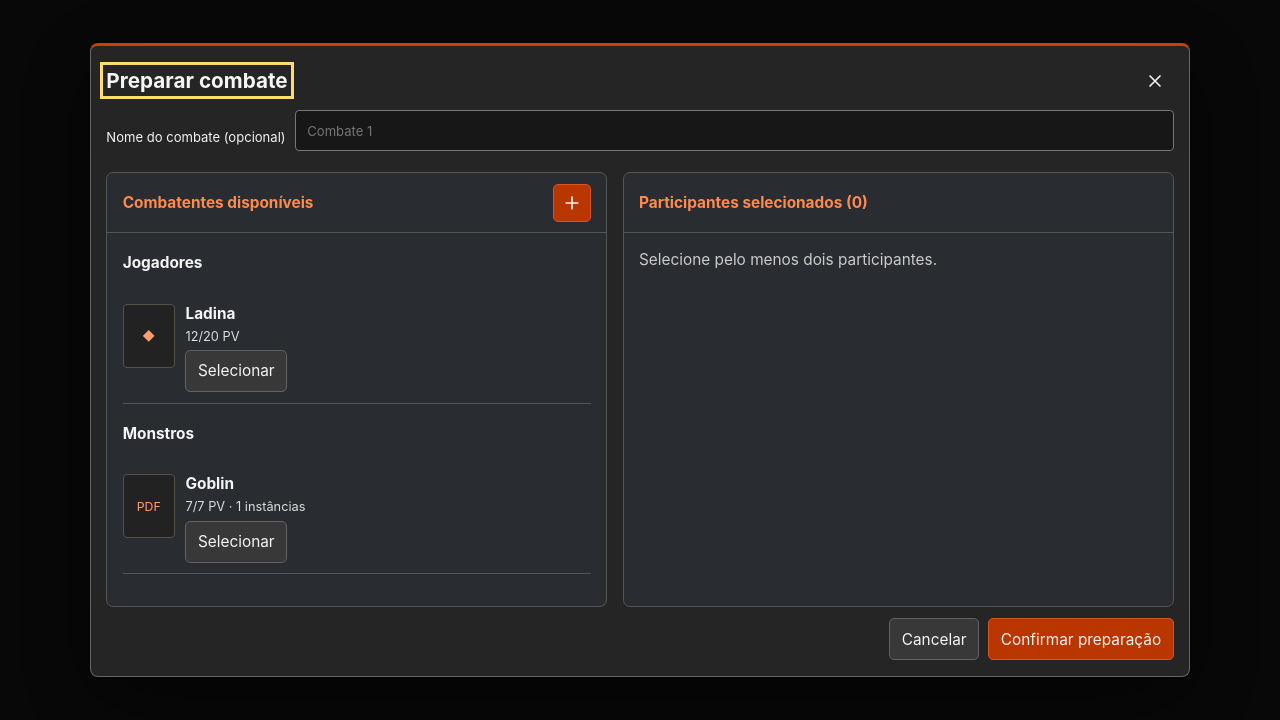
Test: preparação local de combate › mantém cabeçalhos e ações fora das duas listas, mesmo com muitos participantes
The width and height of the screenshot is (1280, 720).
Expected: the number of elements named "Lista de" is 2, x1=107 y1=233 x2=606 y2=606; x1=639 y1=250 x2=937 y2=269
Click the button named "Adicionar combatente avulso" at (572, 203), box x1=553 y1=184 x2=591 y2=222
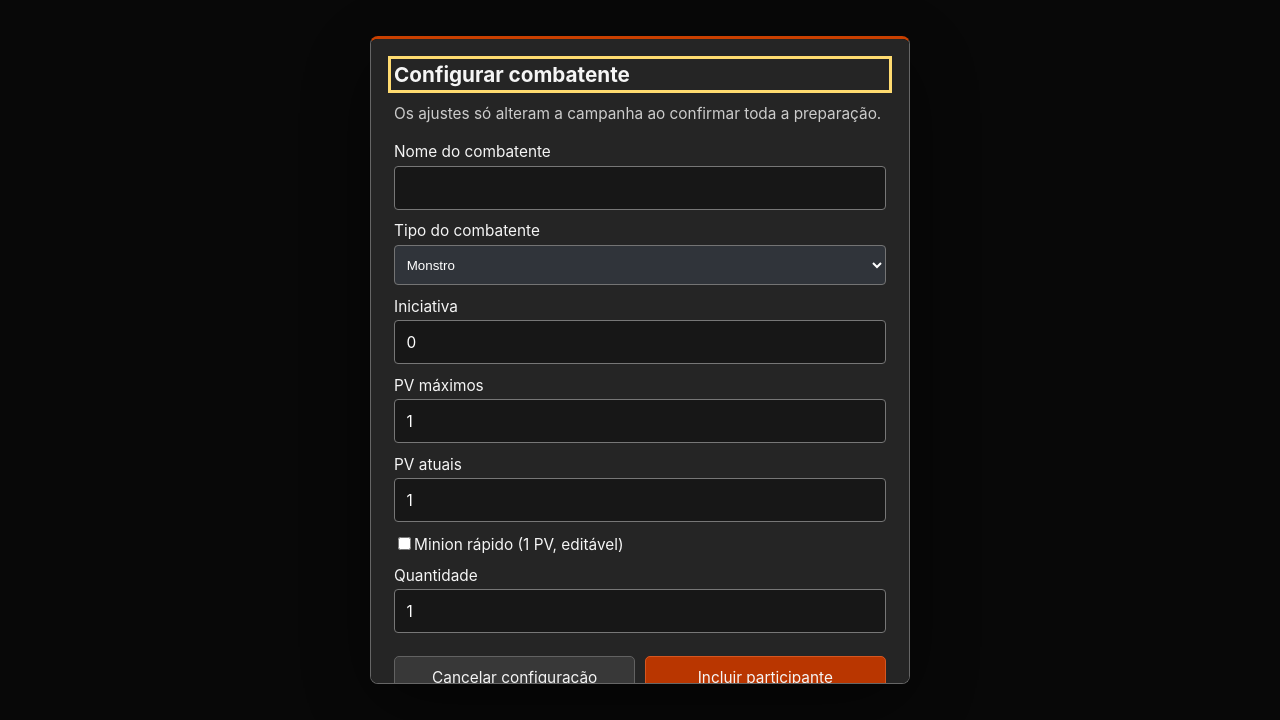
Type "Horda" into the field labelled "Nome do combatente" at (640, 188), box x1=394 y1=166 x2=886 y2=210
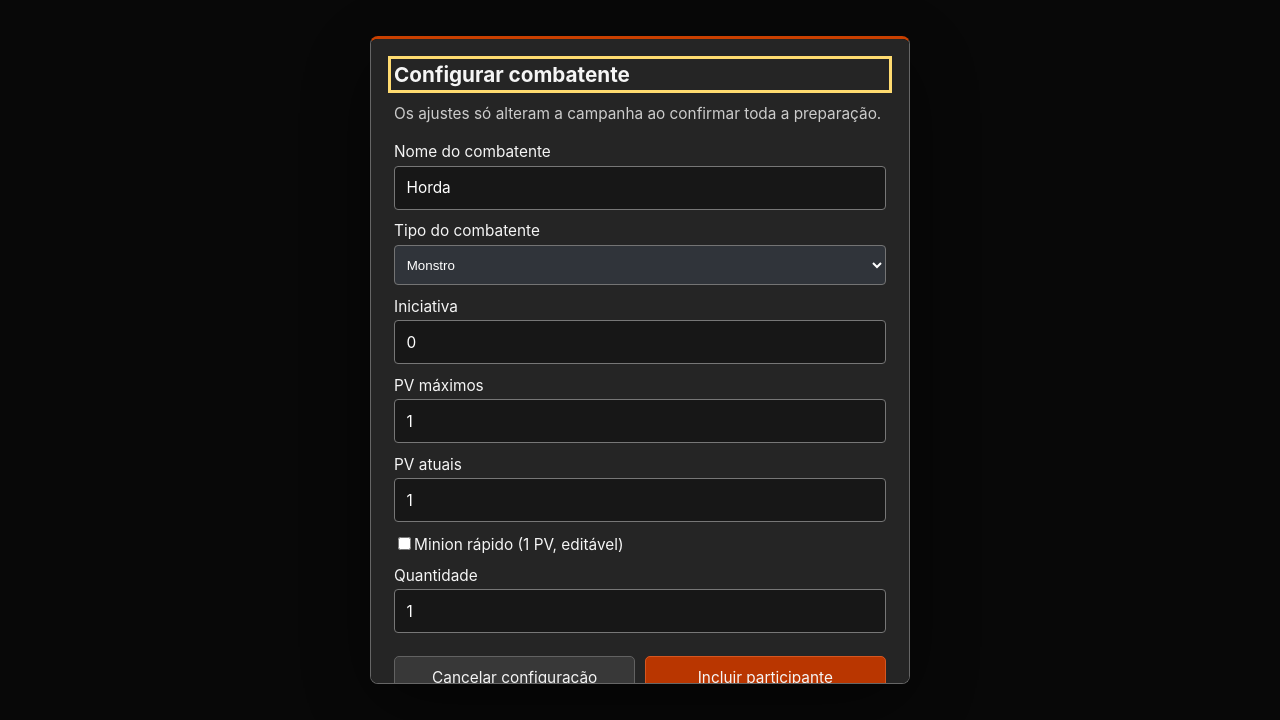
Replace the text in the number field labelled "Quantidade" with "50" at (640, 611), box x1=394 y1=589 x2=886 y2=633
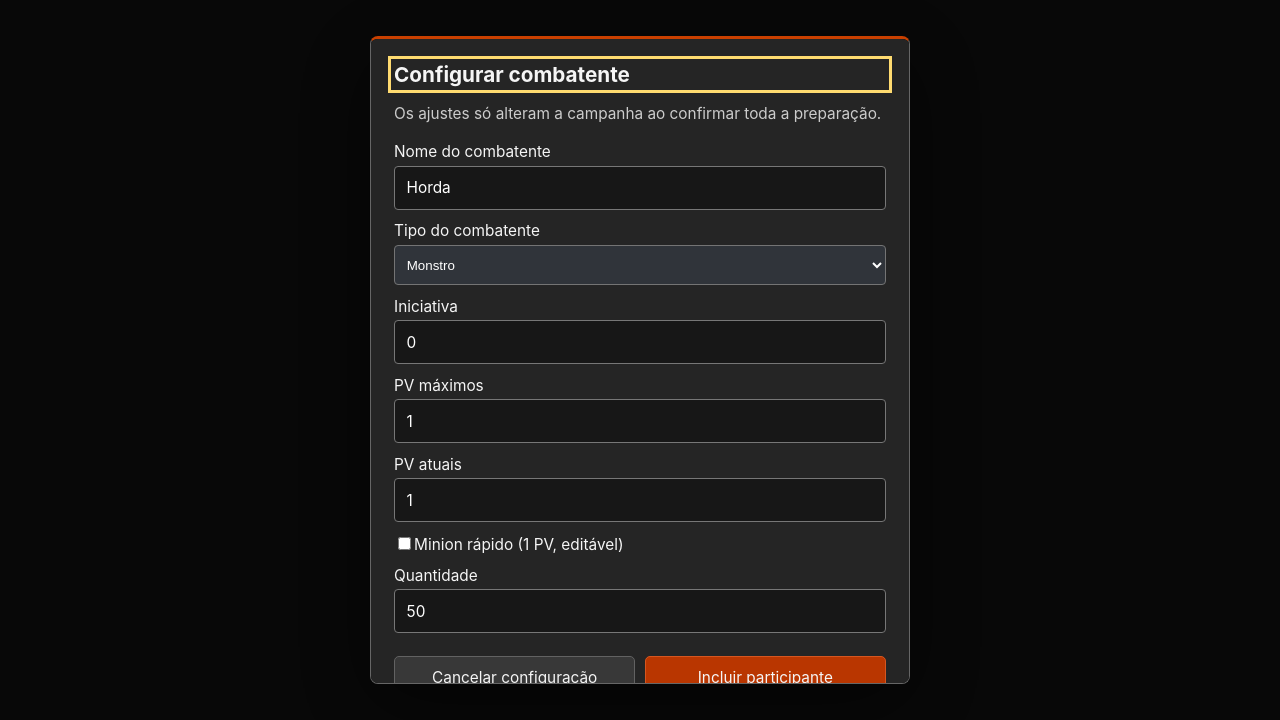
Click the checkbox labelled "Minion rápido (1 PV, editável)" at (404, 544), box x1=398 y1=537 x2=411 y2=550
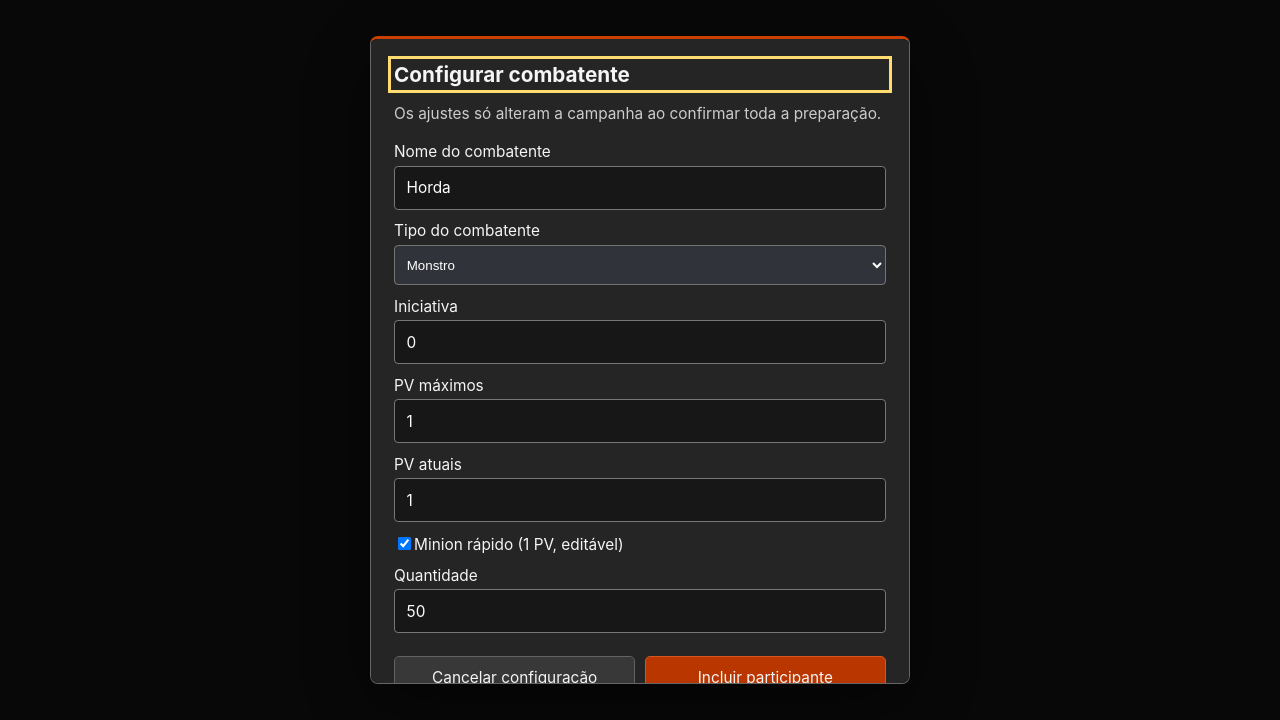
Click the button "Incluir participante" at (765, 677), box x1=645 y1=656 x2=886 y2=698
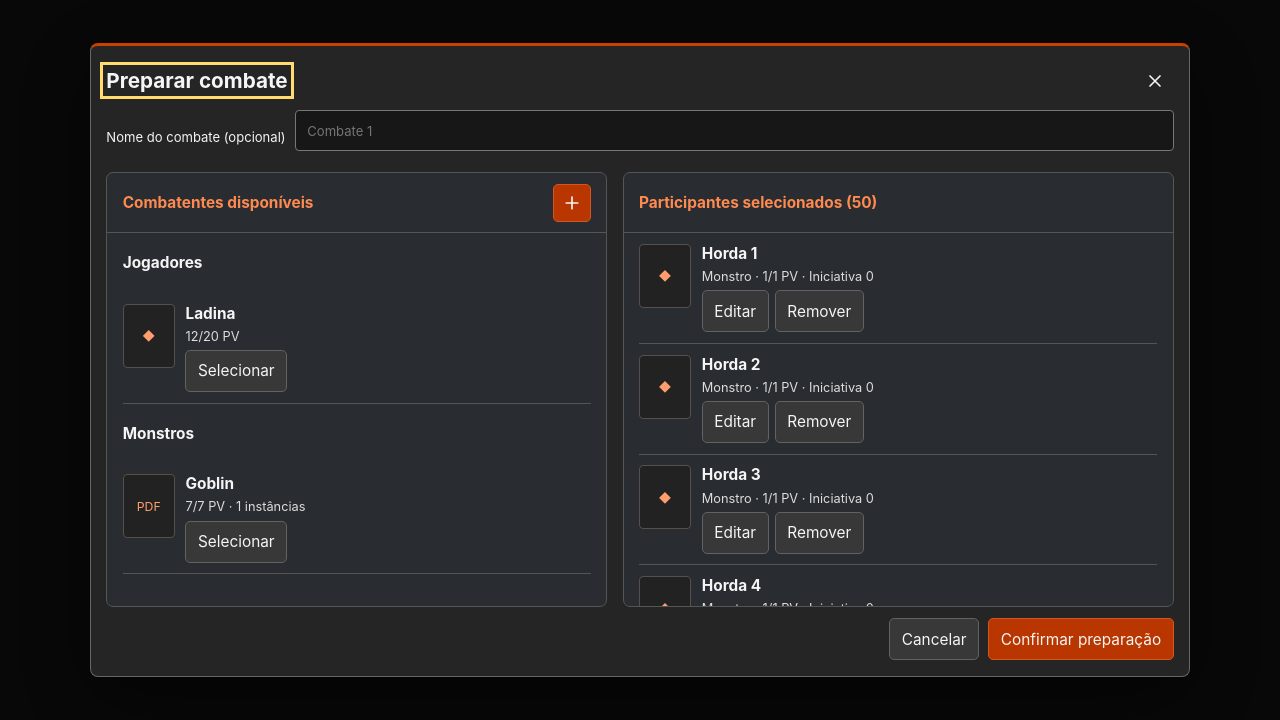
Expected: the number of elements named "Lista de" is 2, x1=107 y1=233 x2=606 y2=606; x1=624 y1=233 x2=1173 y2=606
